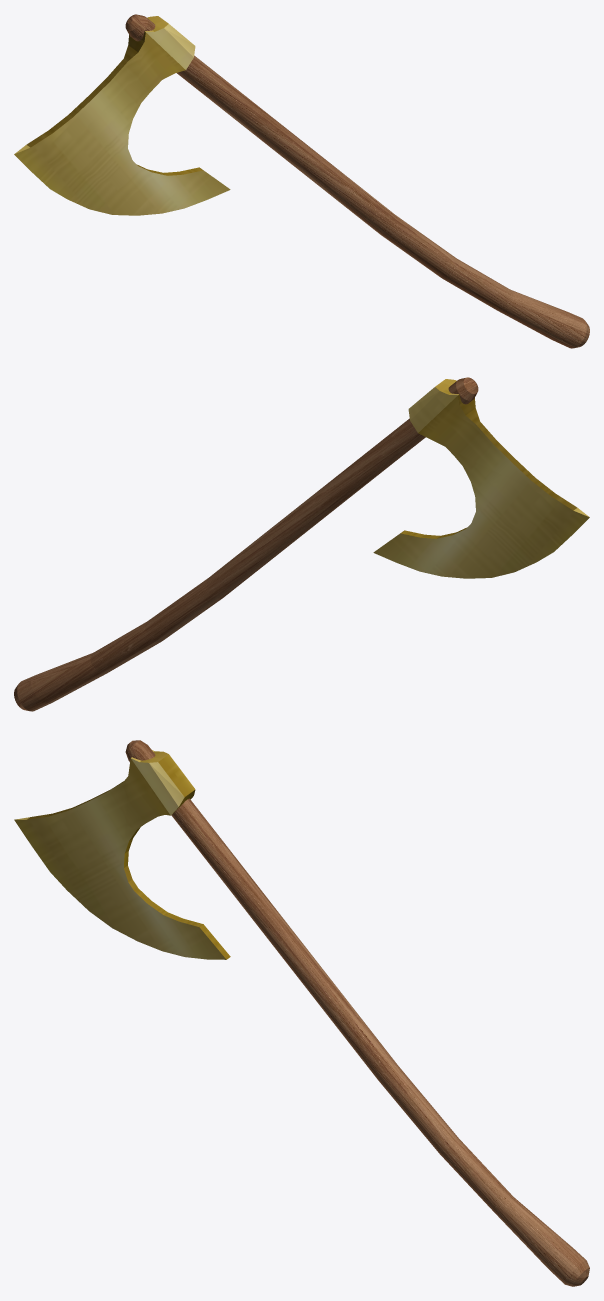
Rendered from SP_GoldAxe.fbx.
The picture shows the model from 3 angles, top to bottom: view 1: azimuth 30°, elevation 25°; view 2: azimuth 150°, elevation 25°; view 3: azimuth 330°, elevation 25°; orthographic projection.
Visible parts, largest first — view 1: Plane, Circle; view 2: Plane, Circle; view 3: Plane, Circle.
Boxes of the visible parts, x1=… form: Plane: x1=14, y1=16, x2=230, y2=215; Circle: x1=125, y1=14, x2=589, y2=348; Plane: x1=373, y1=379, x2=589, y2=578; Circle: x1=14, y1=377, x2=478, y2=711; Plane: x1=14, y1=750, x2=230, y2=959; Circle: x1=125, y1=740, x2=589, y2=1286.
Size of the model in its own units: 480 by 351 by 23.71.
